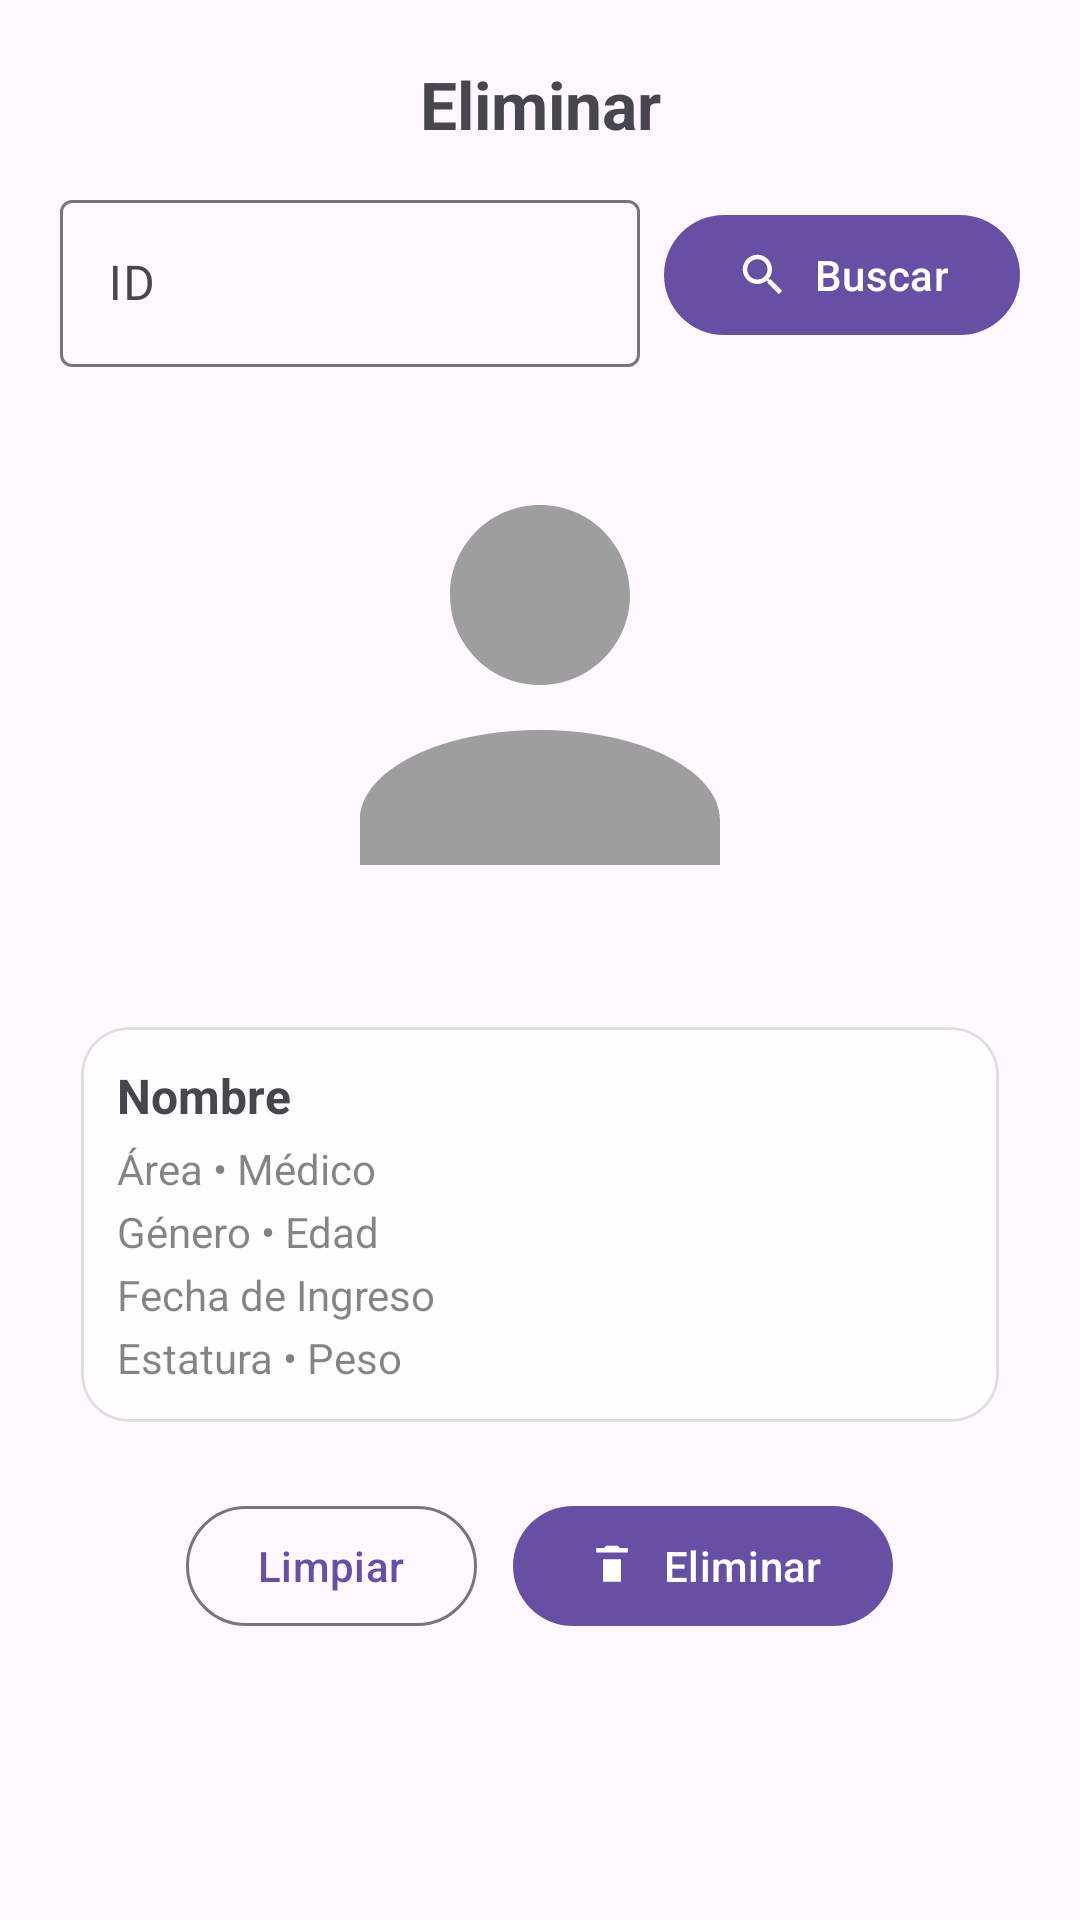

Icon bounding boxes for this 1080x1920 phone screenshot, format (x1, y1, x2, y2):
Información Paciente: (360, 505, 720, 865)
